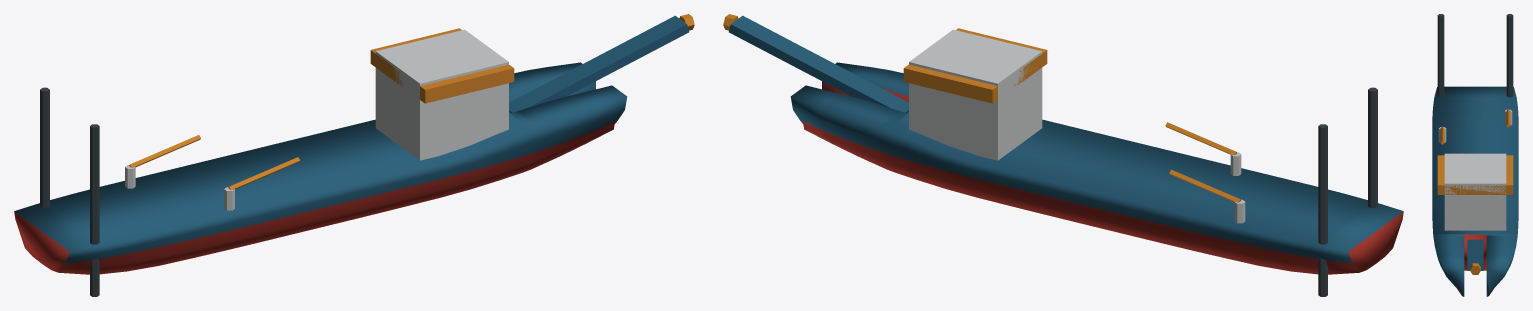
The model's file is dredger-tianjing-ship-proxy.glb.
3 renders of one model, left to right at view 1: azimuth 30°, elevation 25°; view 2: azimuth 150°, elevation 25°; view 3: azimuth 270°, elevation 25°, orthographic. The views are drawn at different scales.
Visible parts, largest first — view 1: ShipProxy; view 2: ShipProxy; view 3: ShipProxy.
Boxes of the visible parts, x1,y1,x2,y2 form: ShipProxy: [14, 14, 694, 296]; ShipProxy: [723, 14, 1403, 296]; ShipProxy: [1432, 14, 1518, 296].
Size of the model in its own units: 139 by 34.5 by 23.
